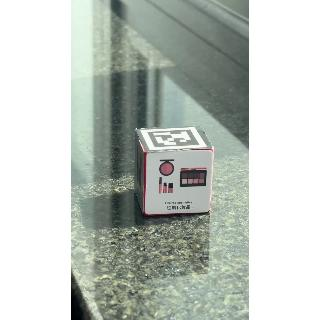Expired_Cosmetic: (146, 151, 215, 217)
